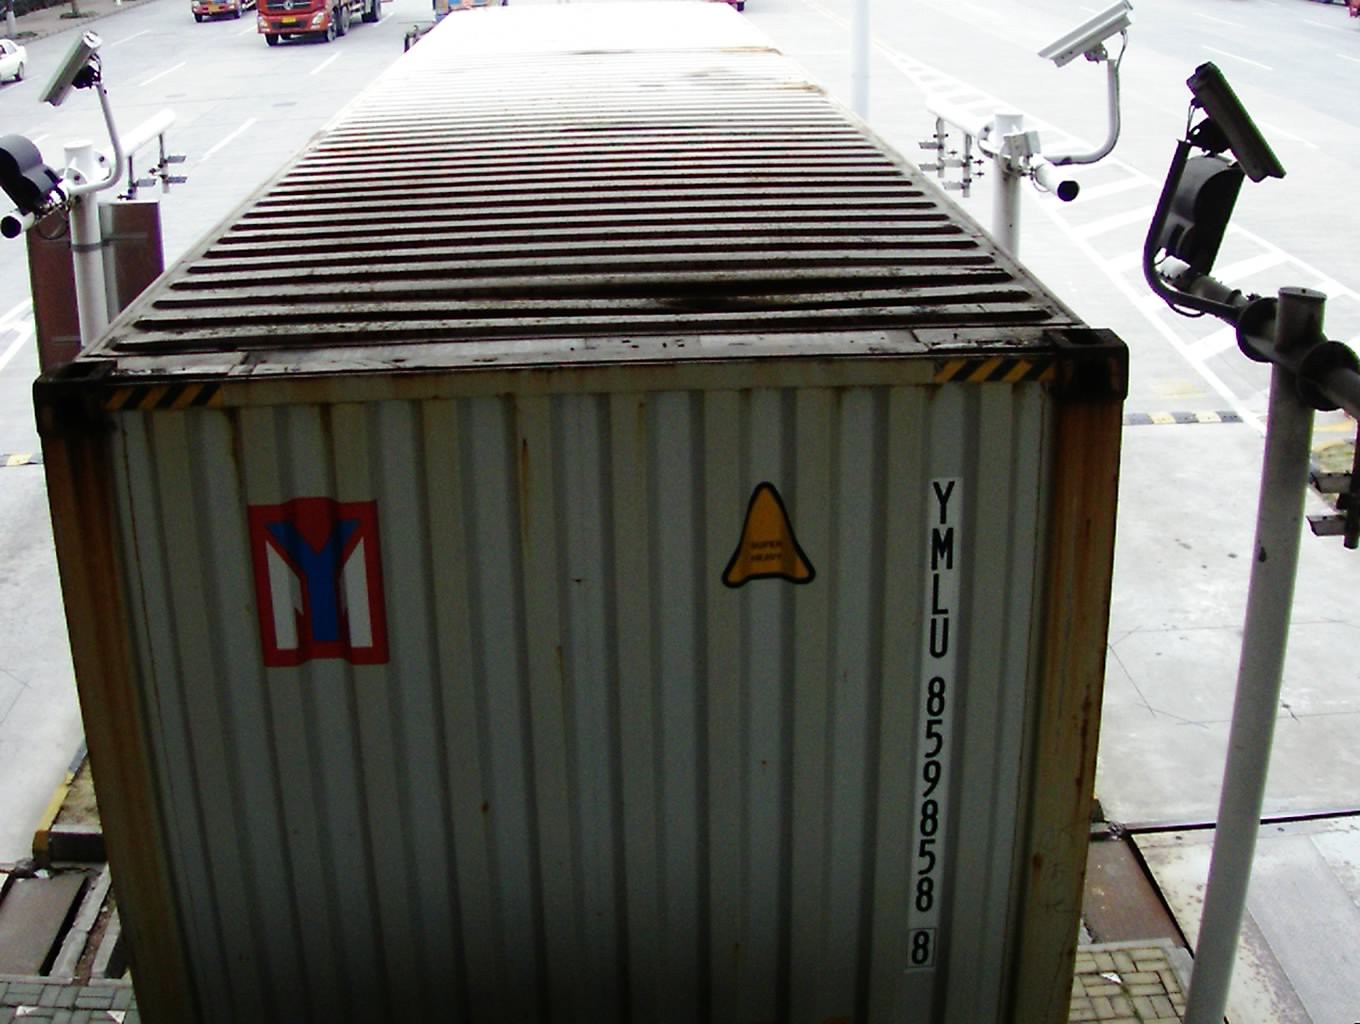words: (902, 467, 959, 975)
